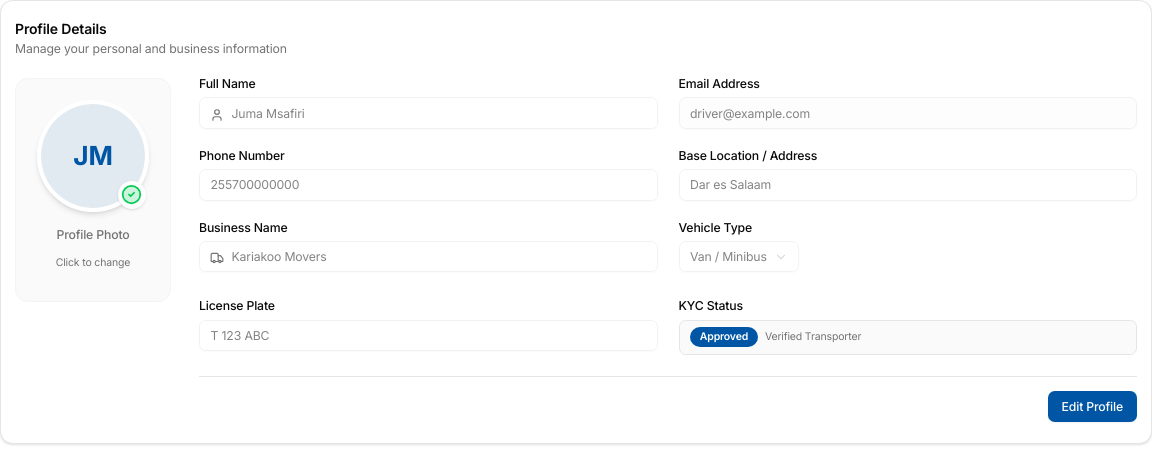
Test: TransporterProfileTab › saves the profile and transporter fields, shows a success toast, and exits edit mode
Click the button "Edit Profile" at (1092, 406), box x1=1048 y1=390 x2=1137 y2=422
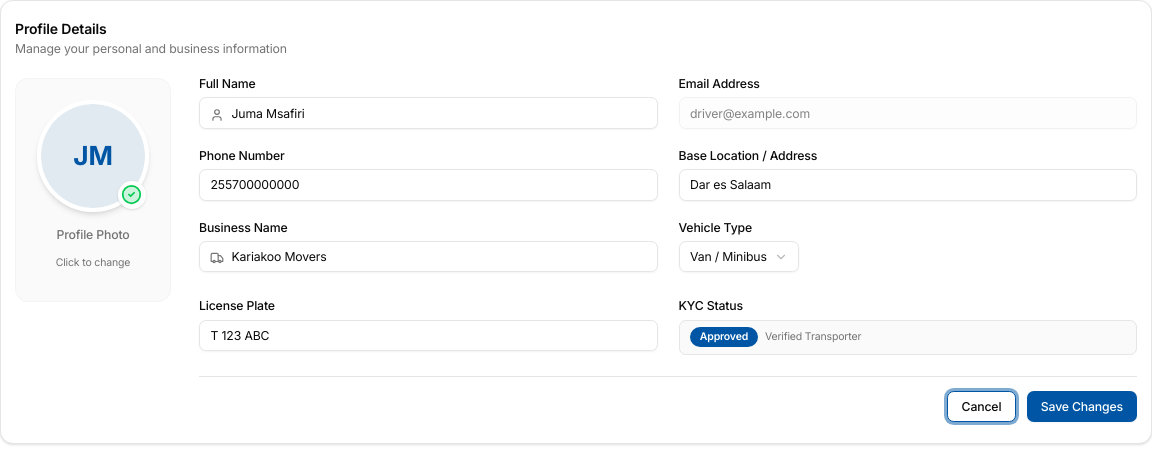
Replace the text in the field labelled "Full Name" with "Juma Kassim" at (428, 113), box x1=199 y1=97 x2=658 y2=129
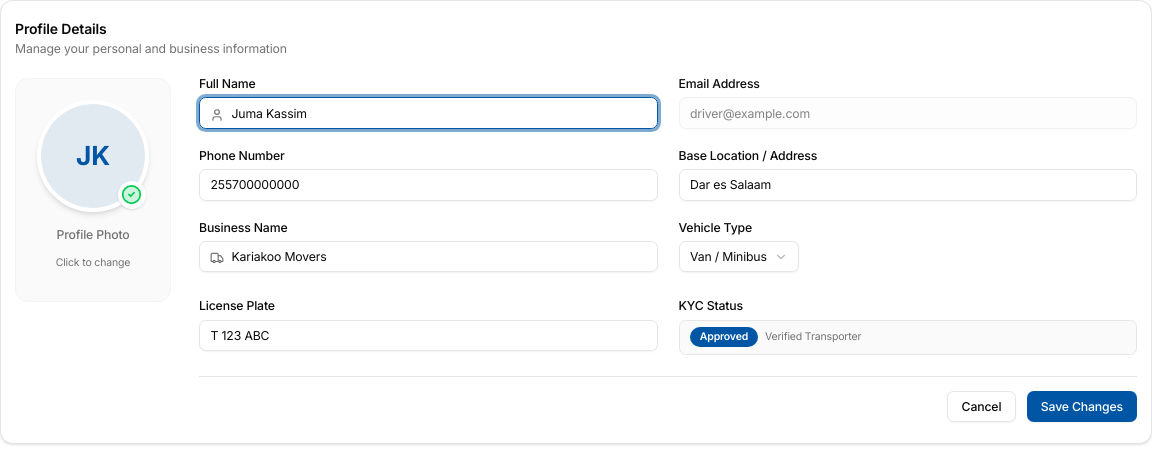
Replace the text in the field labelled "Phone Number" with "255711111111" at (428, 185), box x1=199 y1=169 x2=658 y2=200
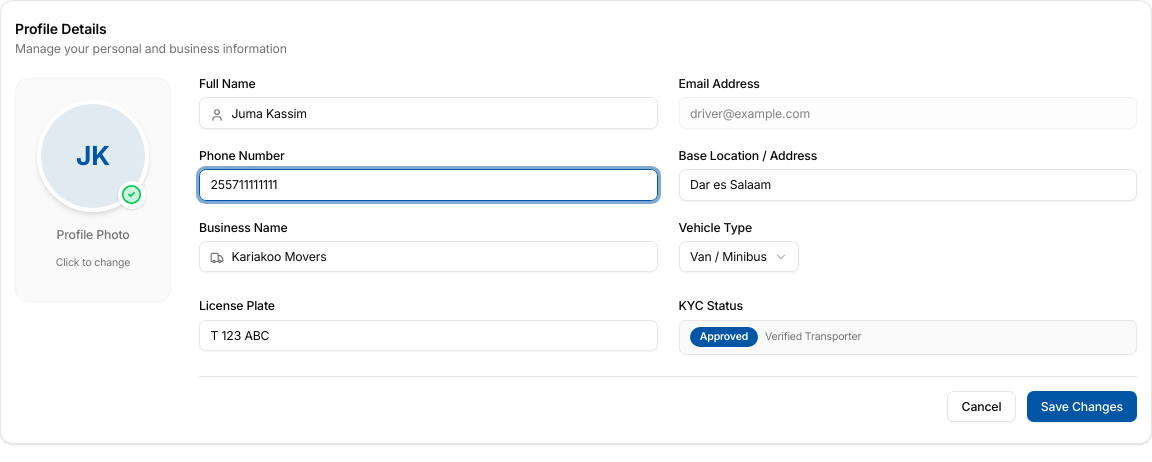
Click the button "Save Changes" at (1082, 406), box x1=1027 y1=390 x2=1137 y2=422
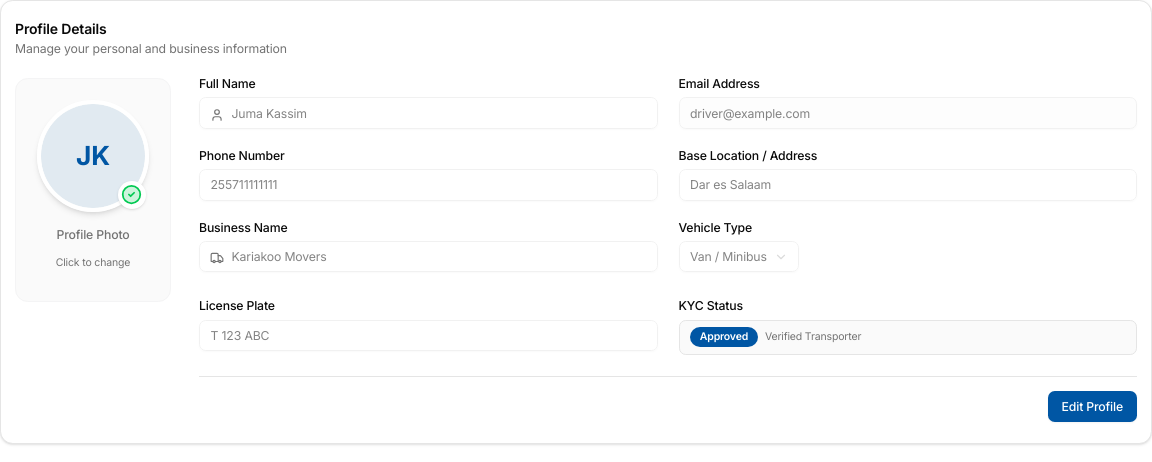
Check: the button "Edit Profile" is shown, box x1=1048 y1=390 x2=1137 y2=422
